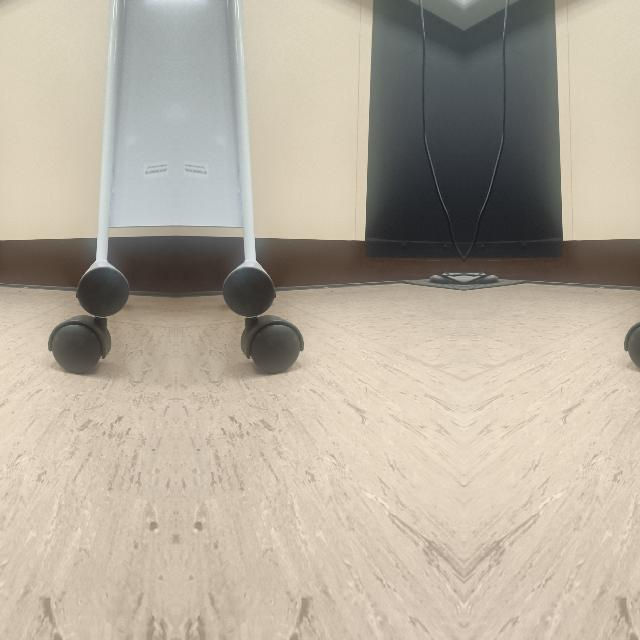obstacle: (222, 161, 306, 375), (44, 161, 128, 375), (621, 161, 640, 375)
